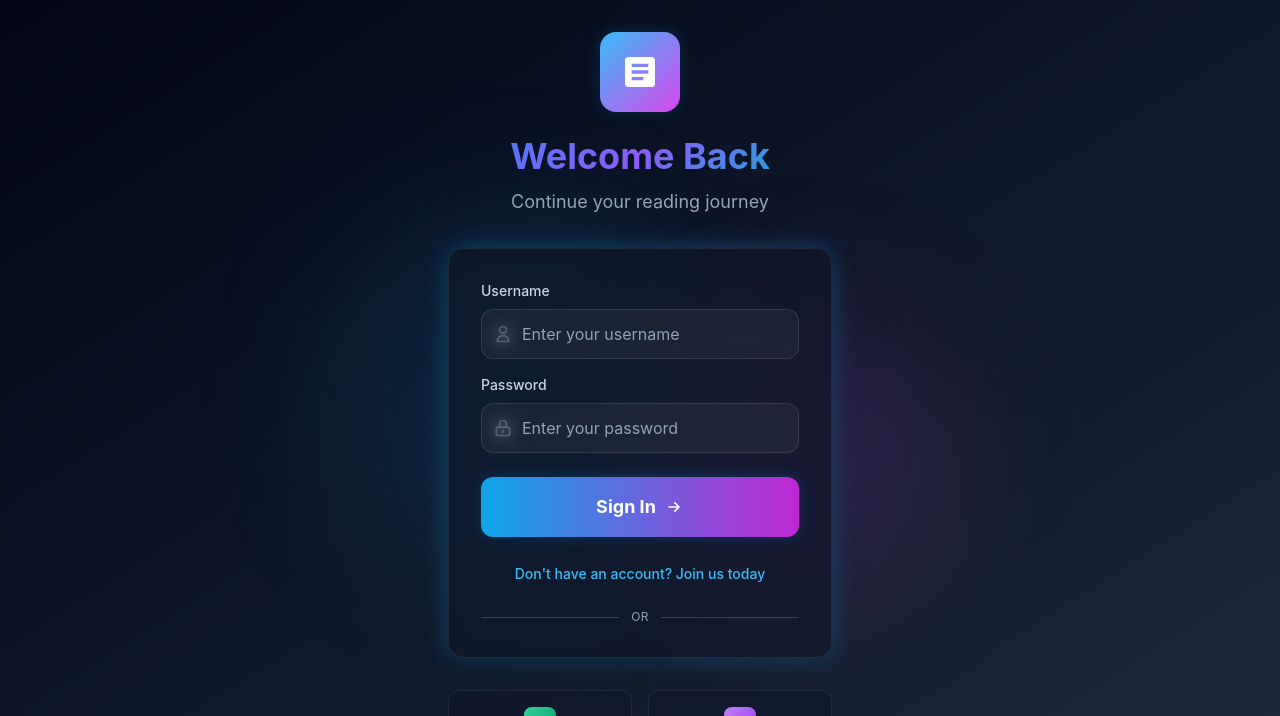
Scenario: LoginPage sign-in › does NOT sign in when the backend is unreachable
Step 1. Type "Akshat" into the field with placeholder "Enter your username" → (640, 334), box [481,309,799,359]
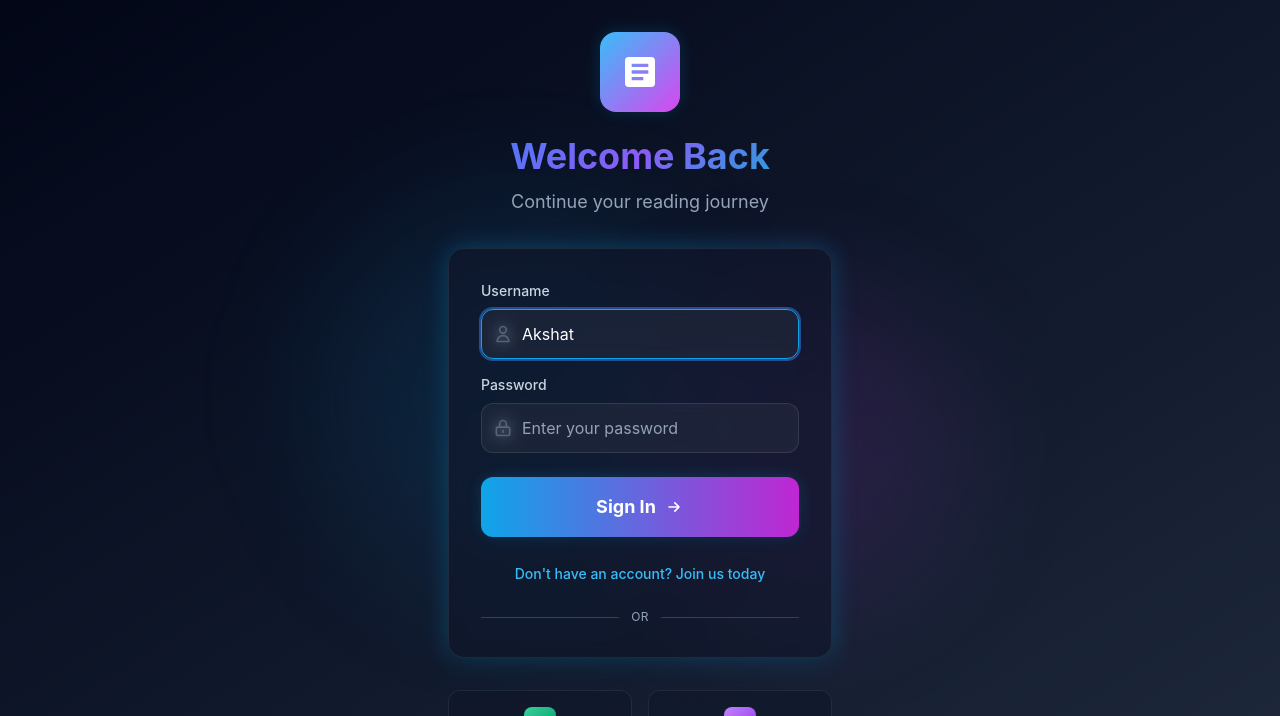
Step 2. Type "gibberish" into the password field with placeholder "Enter your password" → (640, 428), box [481,403,799,453]
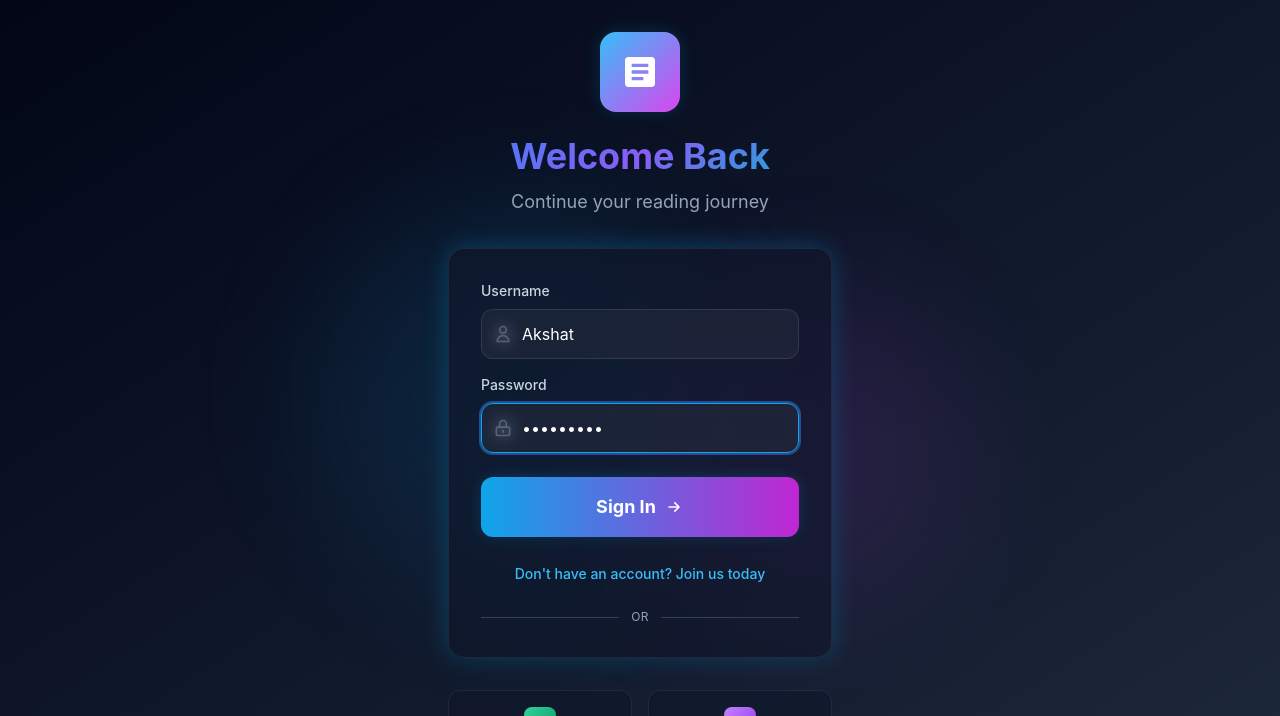
Step 3. Click the button "Sign In" → click(640, 507), box [481,477,799,537]
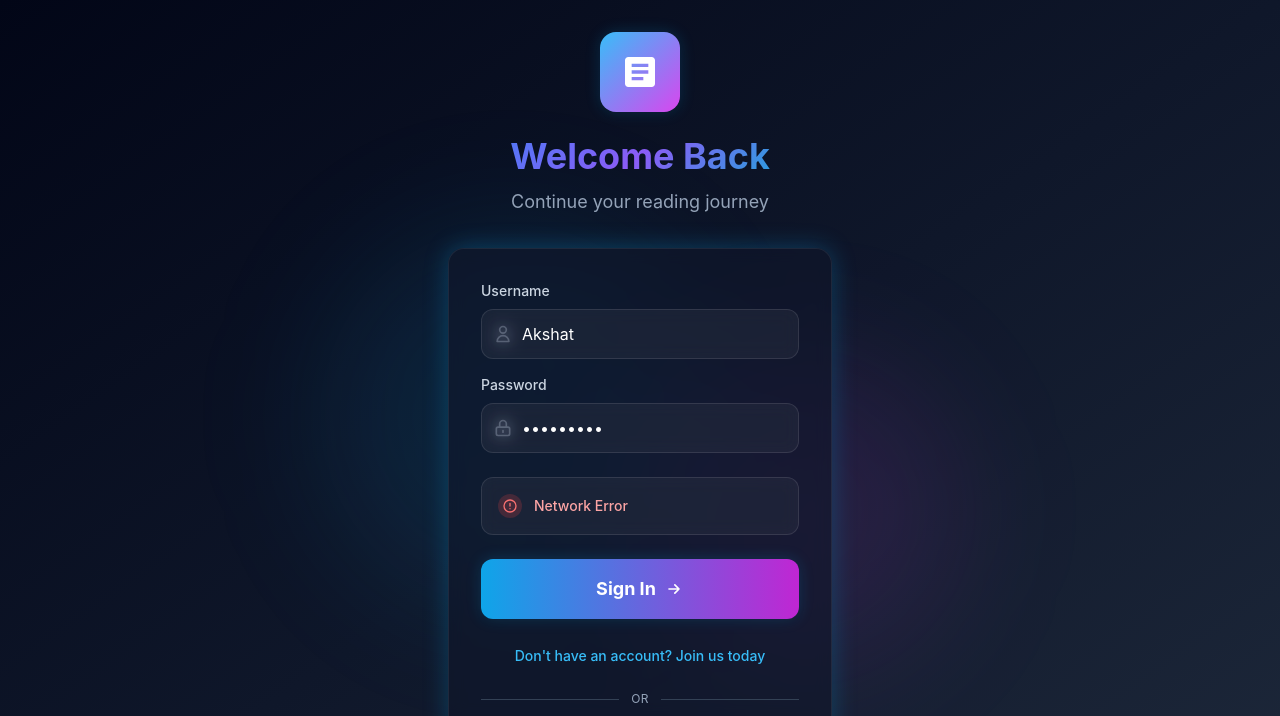
Expected: the text "Network Error" is shown, [534,496,628,516]
